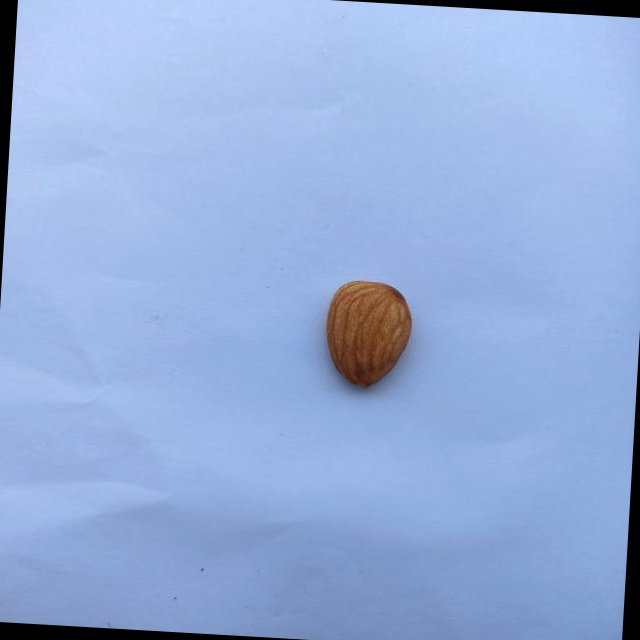grade1: (313, 272, 421, 399)
